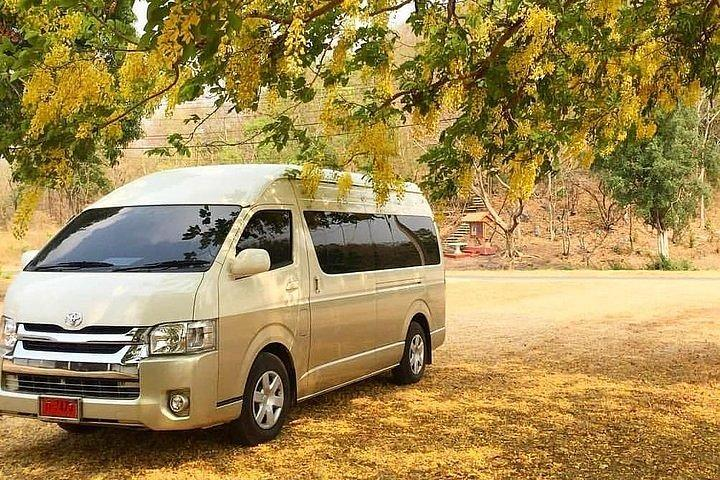van: (3, 162, 447, 446)
